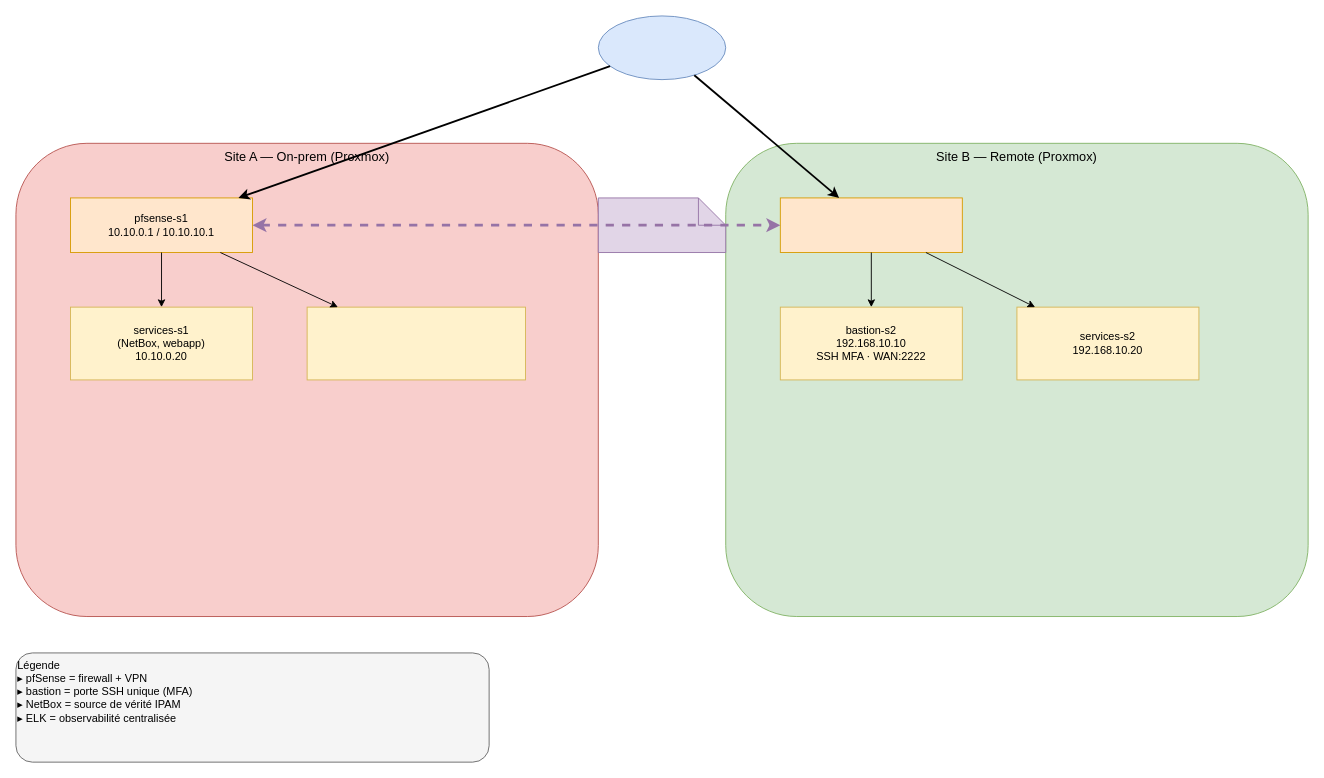
Some shapes in this 1324 by 778 pixel diagram are drawn without their labels. Each missing label, with the centre of its shape:
"Internet" belongs at [661,47].
"observability-s1 (Elastic + Kibana + Logstash) 10.10.0.30" belongs at [416,343].
"pfsense-s2 192.168.0.1 / 192.168.10.1" belongs at [870,225].
"Tunnel OpenVPN UDP/1194 · AES-256-GCM 172.16.0.0/30" belongs at [661,225].
